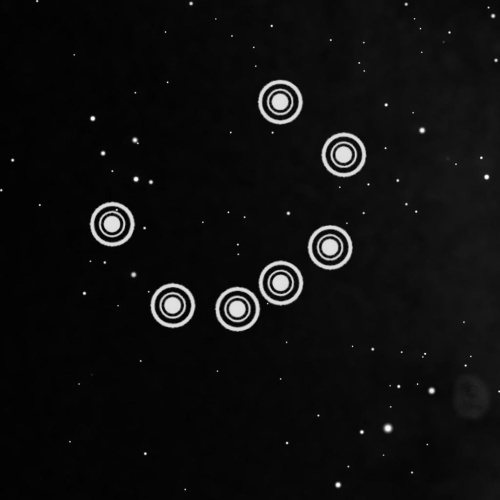corona_borealis: (83, 70, 374, 340)
